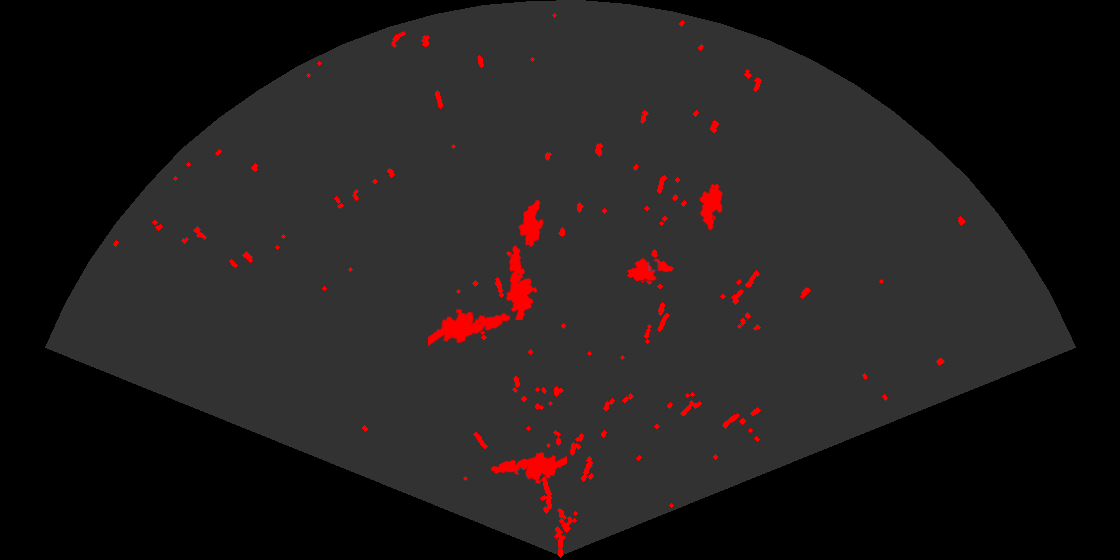AUV: (517, 198, 545, 249), (625, 257, 676, 283), (698, 182, 724, 232)
frogman: (428, 307, 512, 348), (489, 451, 567, 485), (505, 244, 539, 320)
